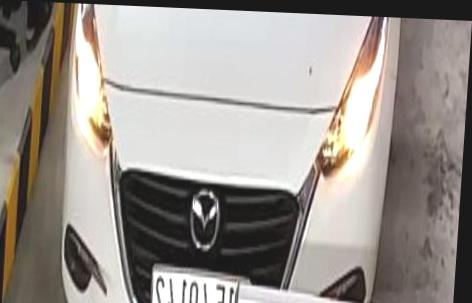License_Plate: (144, 268, 260, 303)
